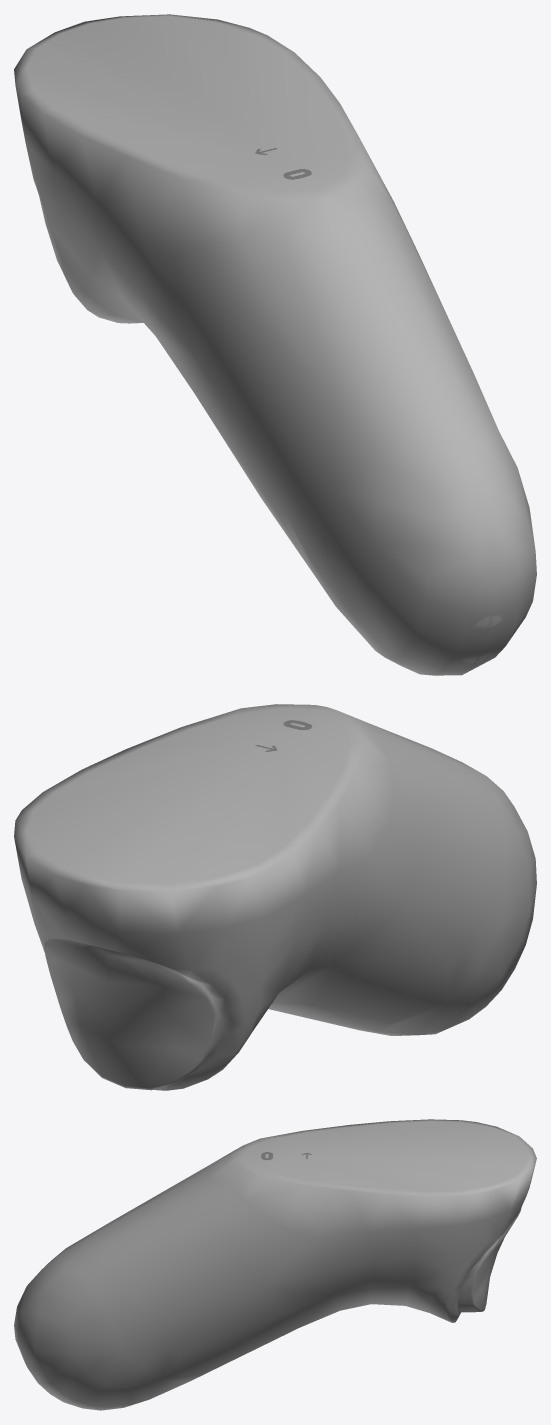
File: pacific_lp.fbx
3 views of the same model, one above another, from view 1: azimuth 30°, elevation 25°; view 2: azimuth 150°, elevation 25°; view 3: azimuth 270°, elevation 25° (orthographic). The views are drawn at different scales.
Parts seen in each view (by area): view 1: body; view 2: body, trigger; view 3: body, trigger.
Part boxes in pixels (x1,y1,x2,y2): body: (14,14,536,675); body: (14,704,536,1090); trigger: (44,938,225,1090); body: (14,1119,536,1410); trigger: (458,1208,521,1312).
Bounding box in the file's own units: 0.0419 × 0.0631 × 0.1193.
1 material, 1 textured.
